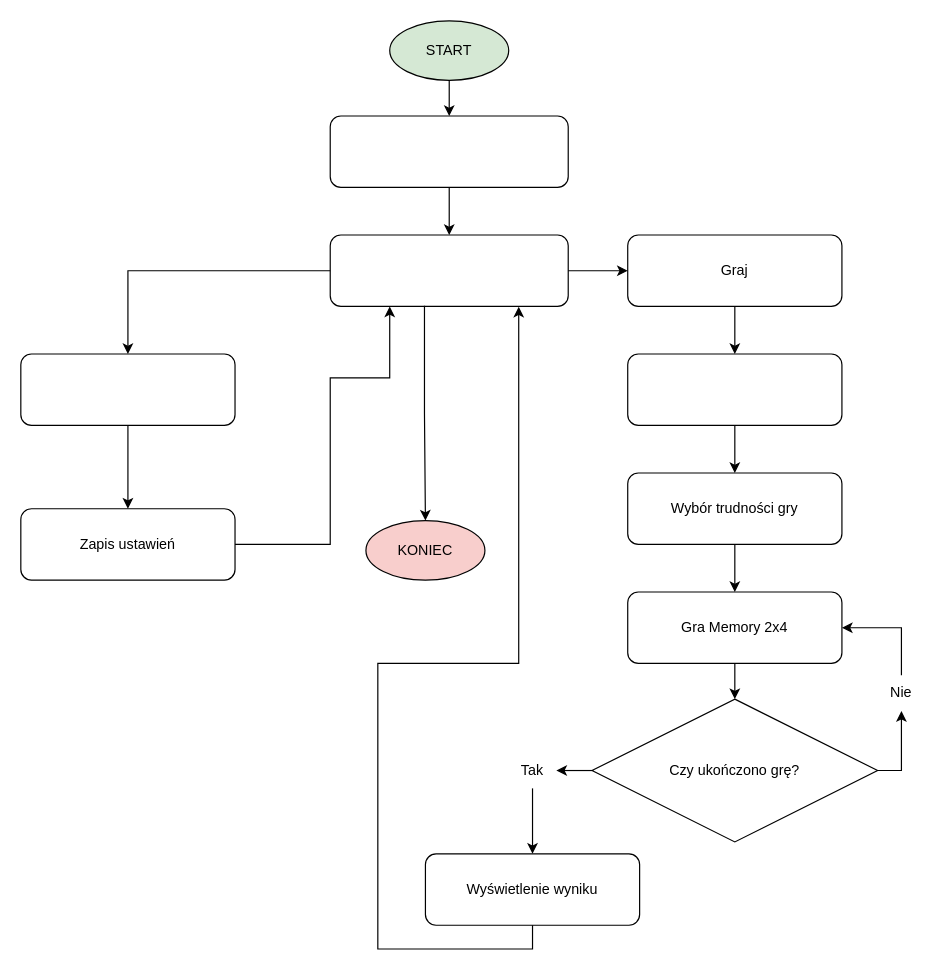
Some shapes in this 946 by 979 pixel diagram are drawn without their labels. Each missing label, with the centre of its shape:
"Menu główne" belongs at (x=448, y=270).
"Uruchomienie aplikacji" belongs at (x=448, y=151).
"Ustawienia" belongs at (x=127, y=389).
"Wybór trybu gry" belongs at (x=734, y=389).
